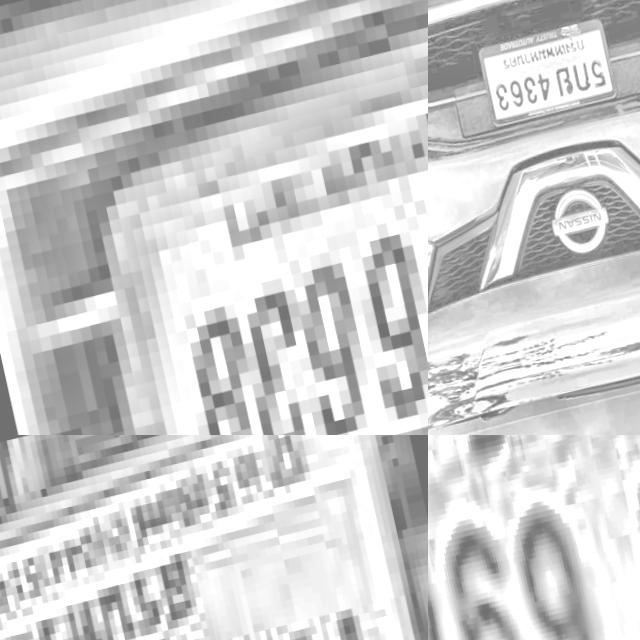license-plate: (0, 0, 428, 435), (0, 435, 428, 640), (428, 435, 640, 640), (475, 14, 621, 133)
